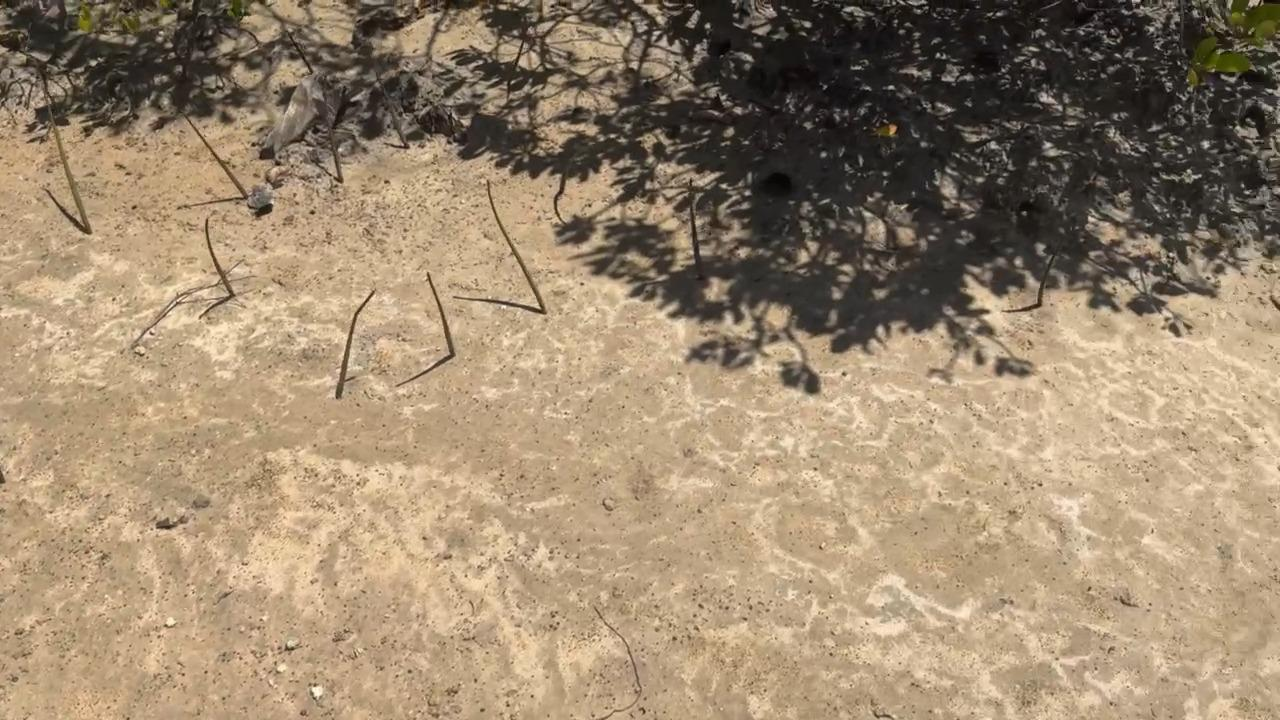Tree: (168, 90, 249, 199), (486, 177, 549, 315), (44, 95, 93, 235), (337, 288, 377, 382), (372, 68, 411, 150), (203, 217, 237, 298), (318, 86, 345, 184), (426, 270, 456, 358), (1037, 232, 1070, 307), (687, 178, 706, 282), (284, 29, 315, 75)
